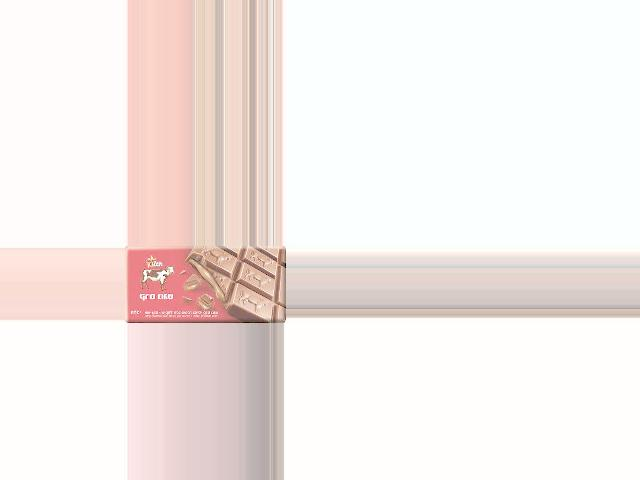chocolate: (124, 246, 283, 321)
